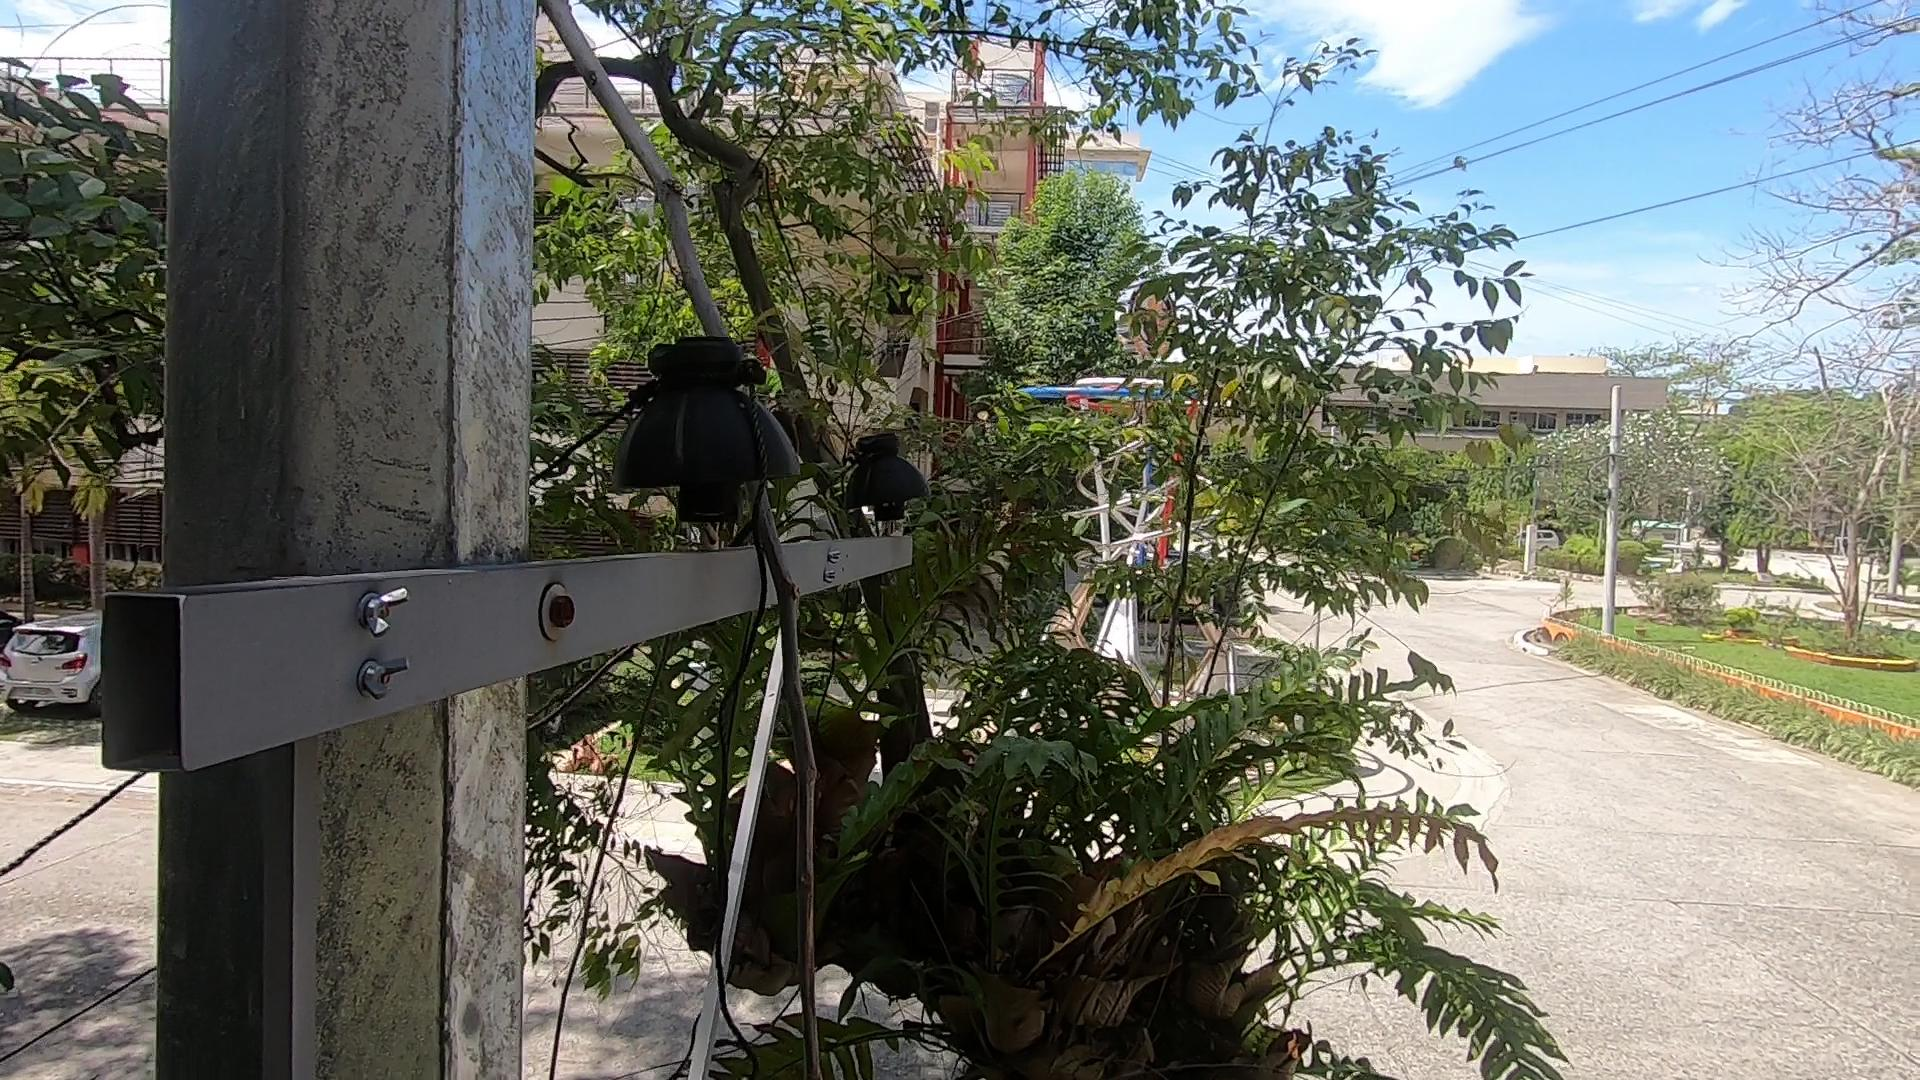tree branch: (531, 3, 931, 1069)
